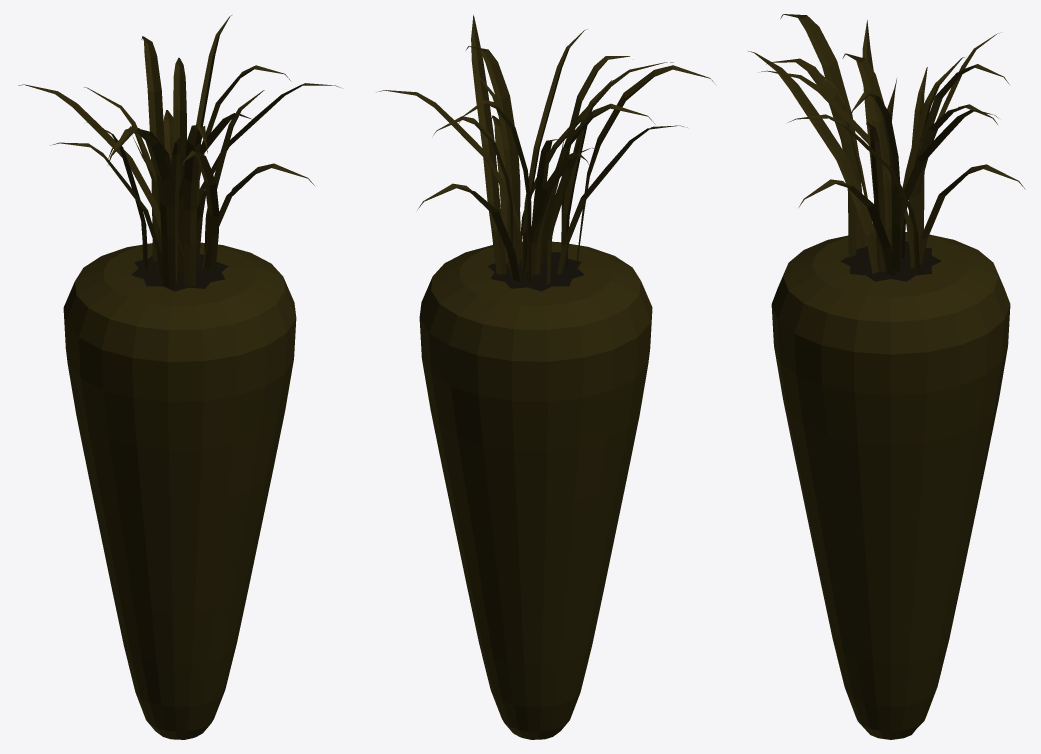
Rendered from GoldCarrot.obj.
The picture shows the model from 3 angles, left to right: view 1: azimuth 30°, elevation 25°; view 2: azimuth 150°, elevation 25°; view 3: azimuth 270°, elevation 25°; orthographic projection.
Parts seen in each view (by area): view 1: Cylinder, Low_Grass; view 2: Cylinder, Low_Grass; view 3: Cylinder, Low_Grass.
Part boxes in pixels (left/top/right/bottom): Cylinder: left=63, top=242, right=296, bottom=739; Low_Grass: left=18, top=15, right=340, bottom=289; Cylinder: left=419, top=241, right=652, bottom=739; Low_Grass: left=376, top=15, right=715, bottom=284; Cylinder: left=771, top=232, right=1010, bottom=739; Low_Grass: left=748, top=14, right=1025, bottom=275.
Size of the model in its own units: 2.31 by 5.7 by 2.14.
